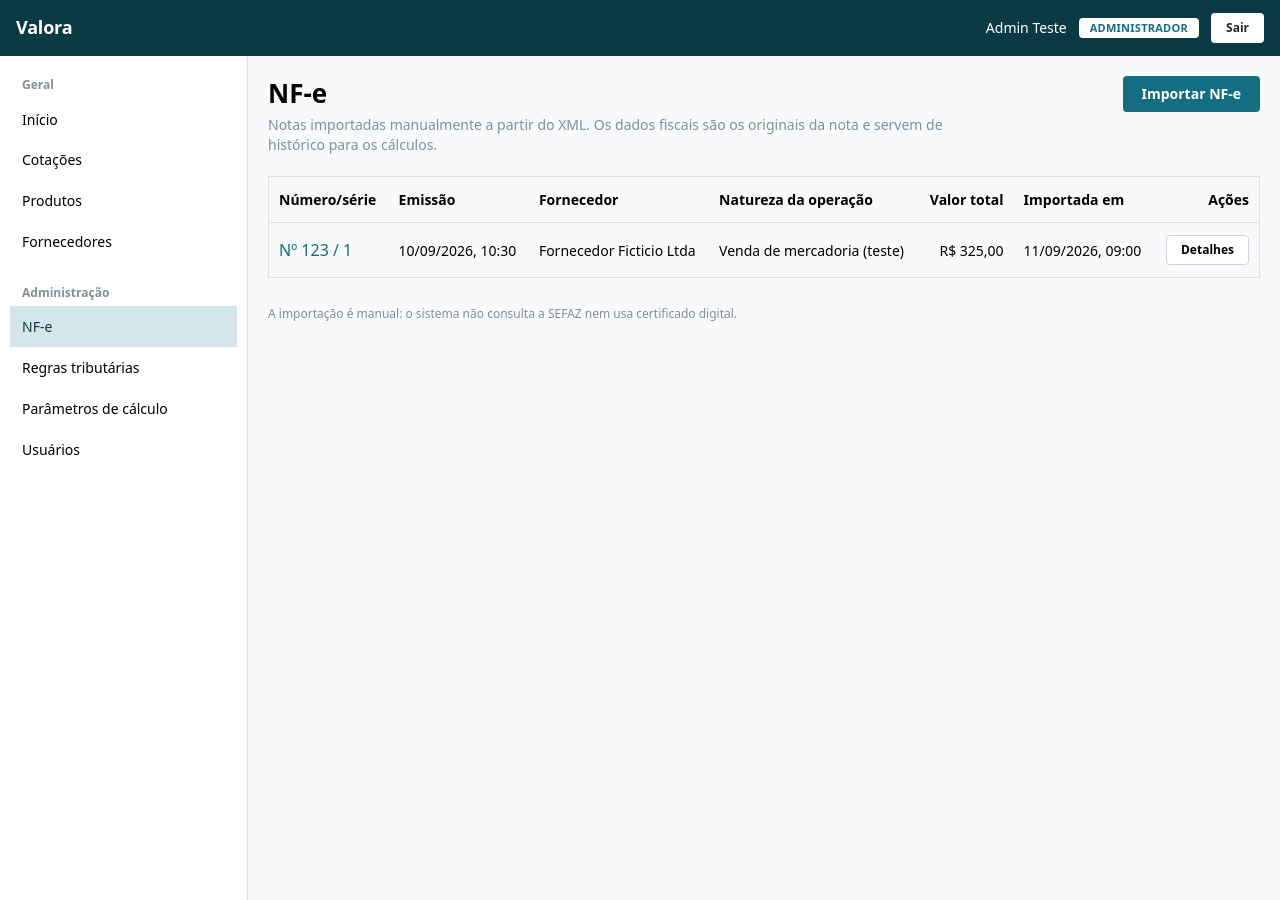
Scenario: NfeDetalhePage › navega da listagem para os detalhes
Click the link "Nº 123 / 1". click: (316, 250)
box: [279,239,352,261]
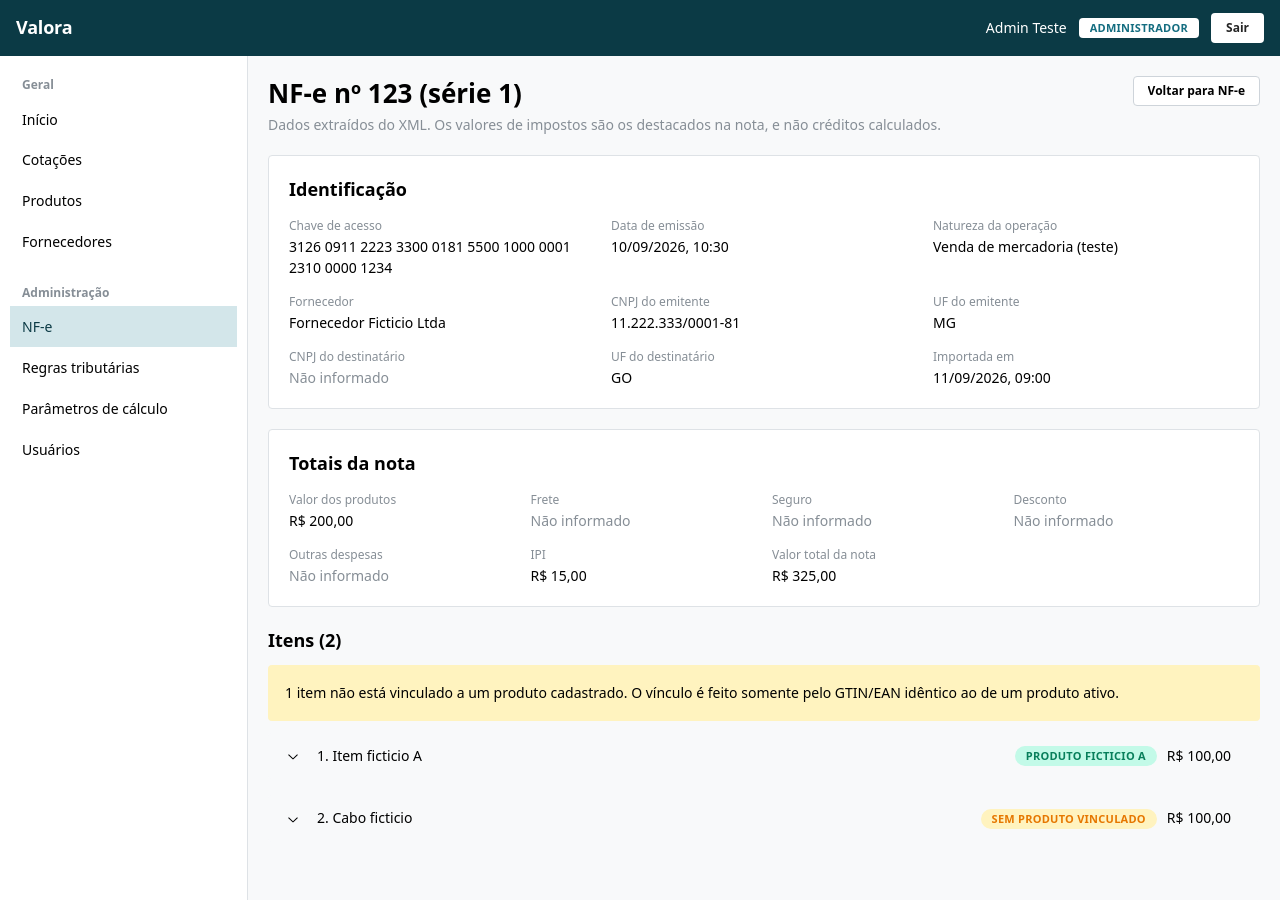
expect the heading "NF-e nº 123 (série 1)" is shown: met, box [268,75,522,111]
